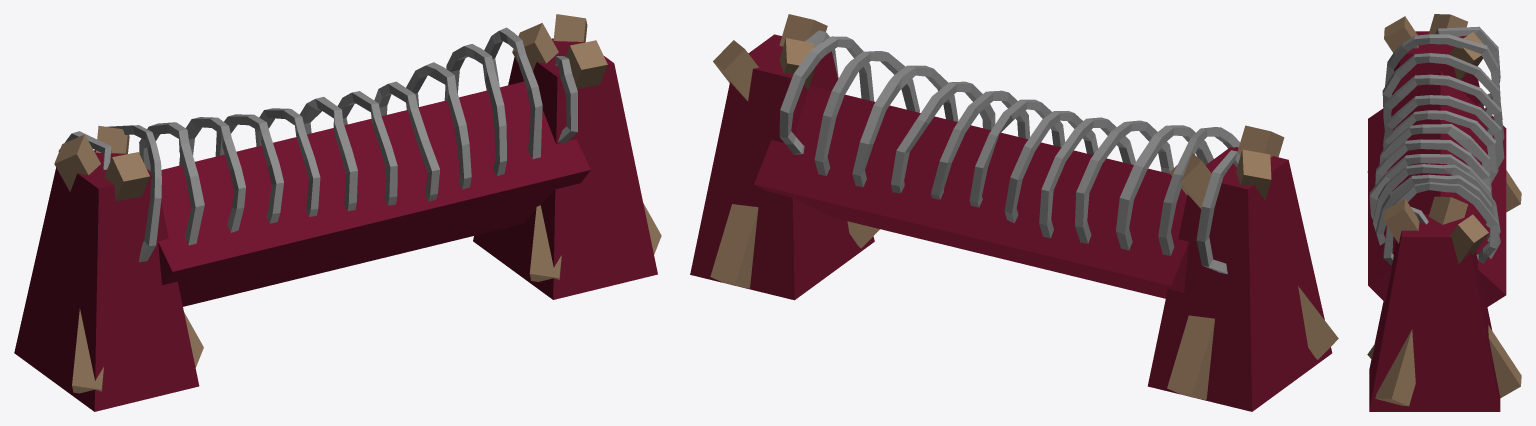
File: BarbedWire.fbx
3 renders of one model, left to right at view 1: azimuth 30°, elevation 25°; view 2: azimuth 150°, elevation 25°; view 3: azimuth 270°, elevation 25°, orthographic. The views are drawn at different scales.
Parts seen in each view (by area): view 1: BarbedWire1C, BarbedWire1_LOD0; view 2: BarbedWire1C, BarbedWire1_LOD0; view 3: BarbedWire1C, BarbedWire1_LOD0.
Boxes of the visible parts, bbox=[...] form: BarbedWire1C: bbox=[14, 38, 657, 411]; BarbedWire1_LOD0: bbox=[54, 14, 661, 393]; BarbedWire1C: bbox=[690, 34, 1332, 411]; BarbedWire1_LOD0: bbox=[710, 14, 1338, 400]; BarbedWire1C: bbox=[1368, 31, 1506, 411]; BarbedWire1_LOD0: bbox=[1367, 14, 1521, 406].
Size of what is drawn, in the model's own units: 239 by 88.85 by 65.79.
1 material, 1 textured.
